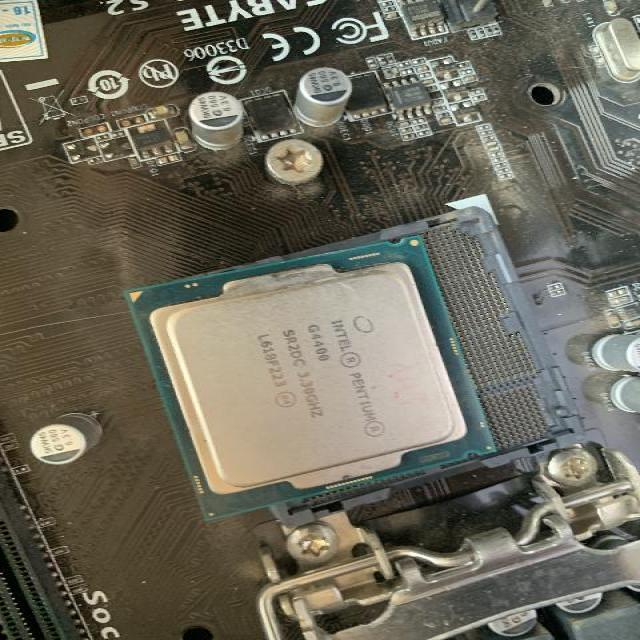CPU: (118, 232, 495, 522)
Mainboard: (2, 0, 640, 640)
